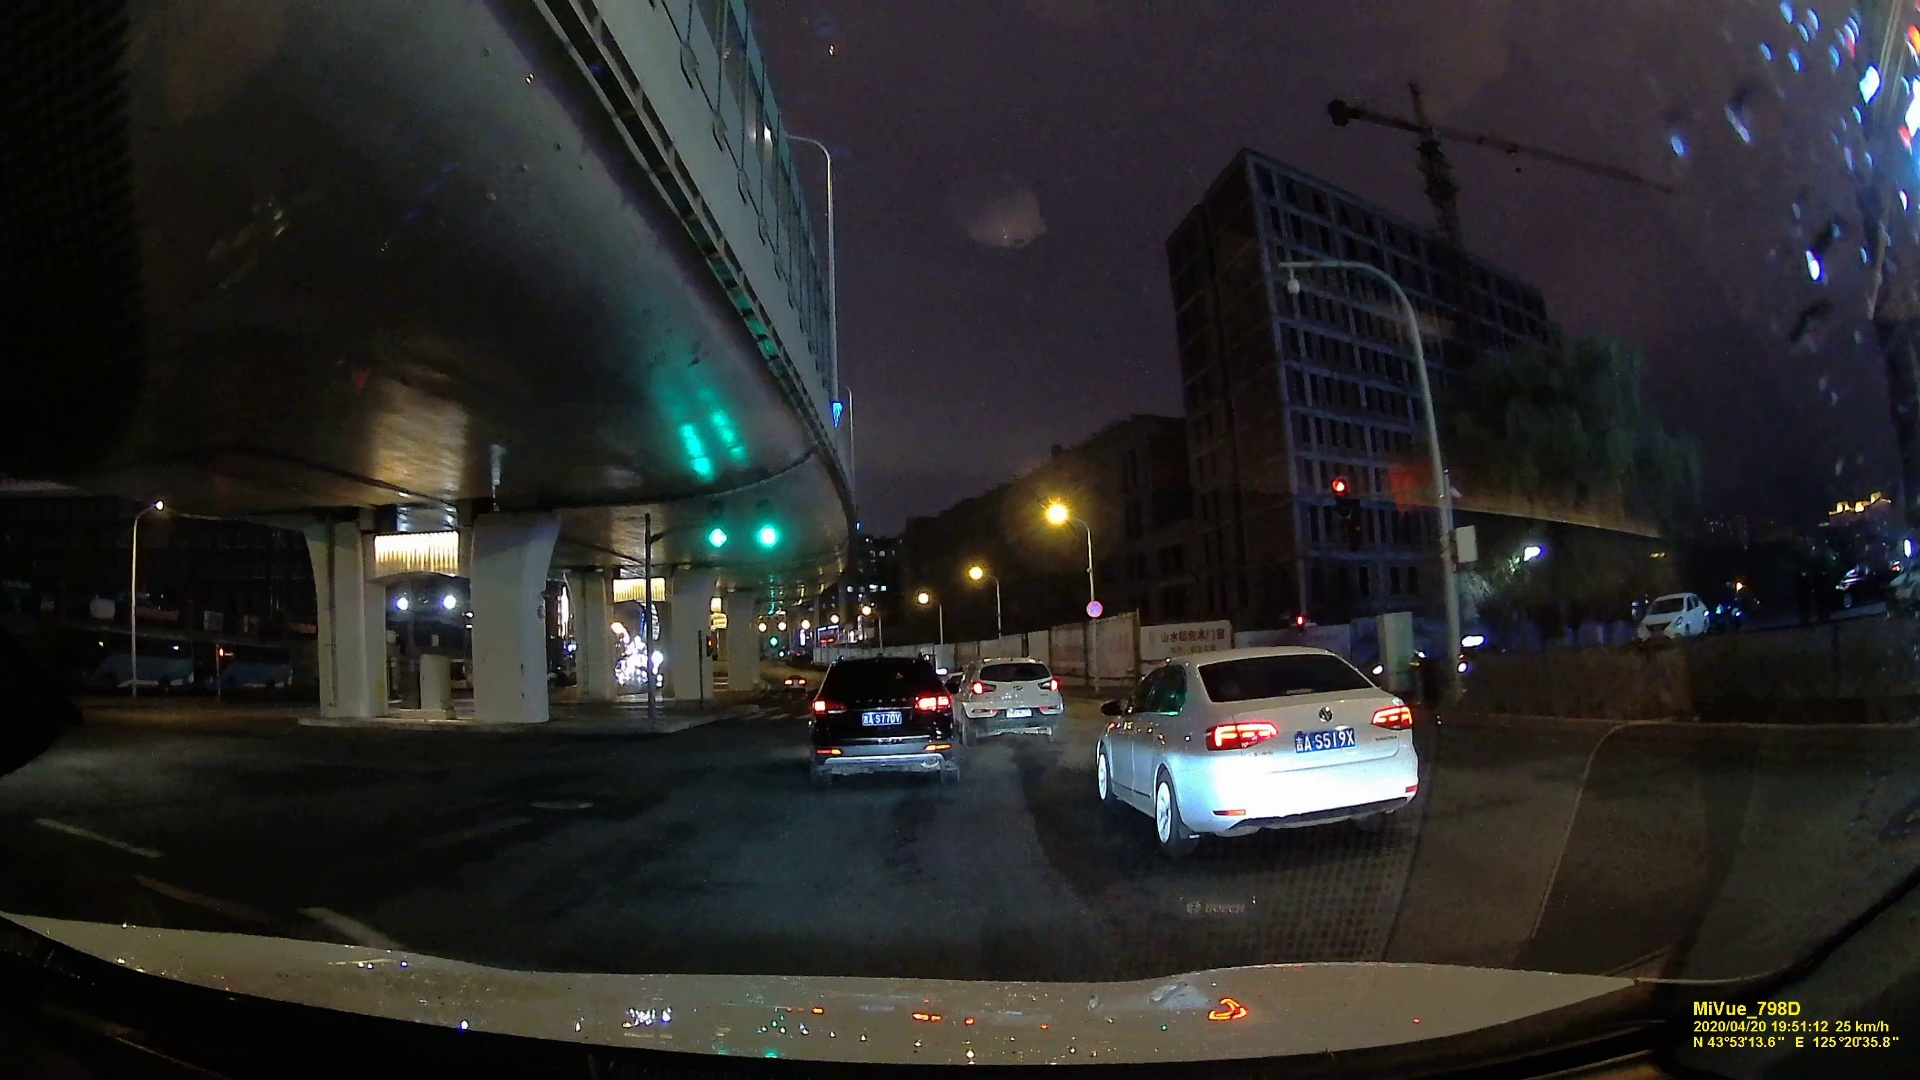traffic_sign: (757, 512, 781, 547), (709, 513, 725, 547), (1085, 597, 1102, 620)
vehicle: (1095, 641, 1425, 858), (802, 647, 957, 796), (955, 655, 1062, 740), (1639, 589, 1717, 641)
